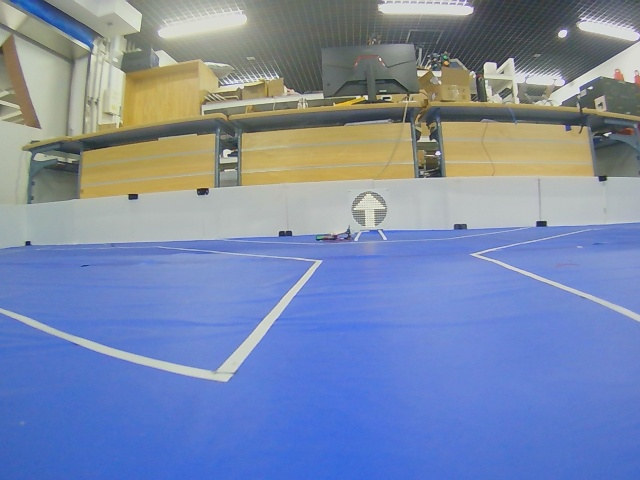straight_yellow: (352, 192, 387, 228)
